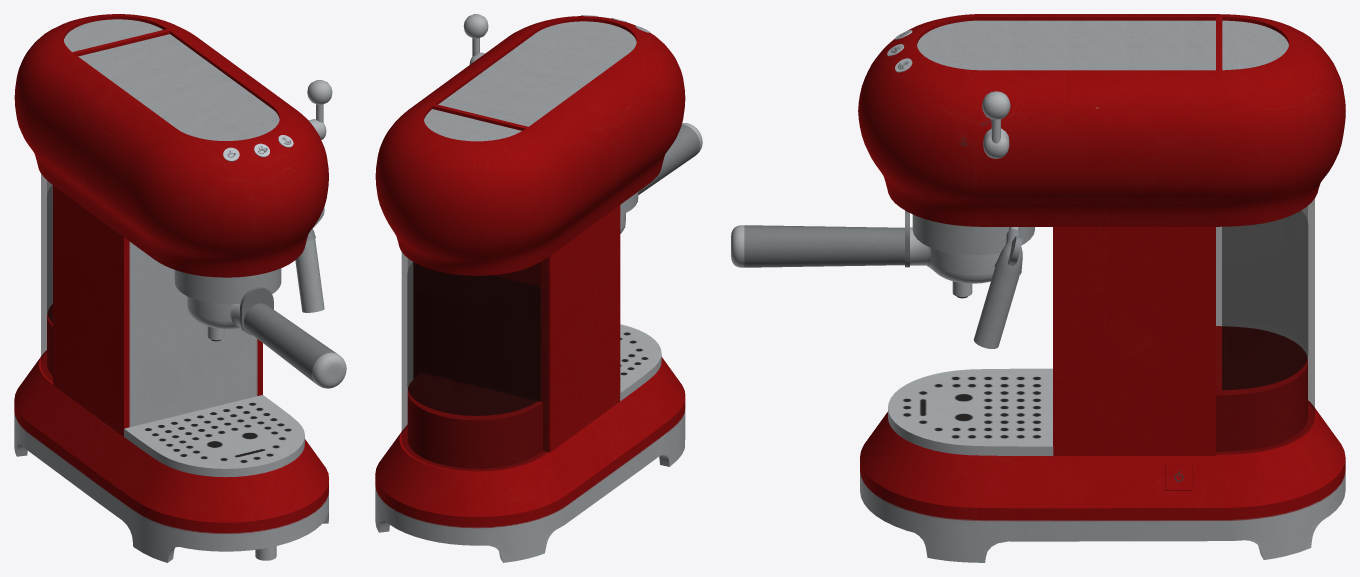
3 views of the same model, side by side, from view 1: azimuth 30°, elevation 25°; view 2: azimuth 150°, elevation 25°; view 3: azimuth 270°, elevation 25° (orthographic). The views are drawn at different scales.
Visible parts, largest first — view 1: body, glass_outter, watter; view 2: body, glass_outter, watter, glass_inner_2, glass_inner; view 3: body, glass_outter, watter, glass_inner_2.
Part boxes in pixels (box(x1,y1,x2,y2)): body: box(14, 14, 346, 562); glass_outter: box(41, 174, 52, 381); watter: box(47, 185, 52, 322); body: box(375, 14, 702, 562); glass_outter: box(401, 252, 547, 470); watter: box(407, 262, 540, 415); glass_inner_2: box(453, 367, 484, 397); glass_inner: box(408, 259, 539, 286); body: box(731, 14, 1345, 562); glass_outter: box(1216, 199, 1314, 454); watter: box(1222, 210, 1307, 389); glass_inner_2: box(1227, 326, 1264, 361).
Size of what is drawn, in the model's own units: 0.1678 by 0.3264 by 0.3814.
2 materials, 1 textured.
